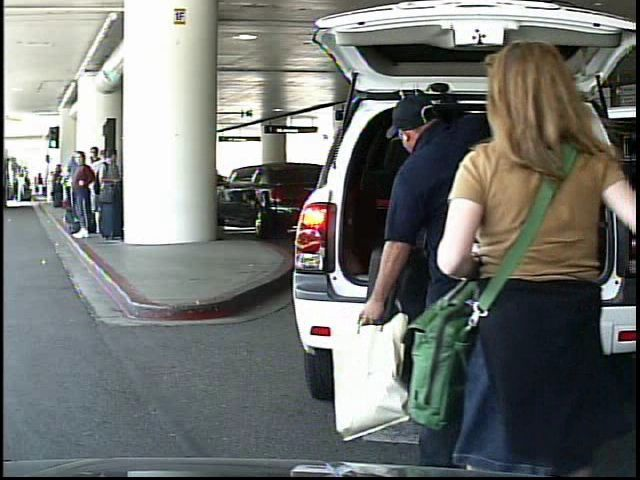person: (436, 50, 640, 471), (358, 93, 551, 462), (17, 174, 28, 205), (35, 172, 46, 199)
